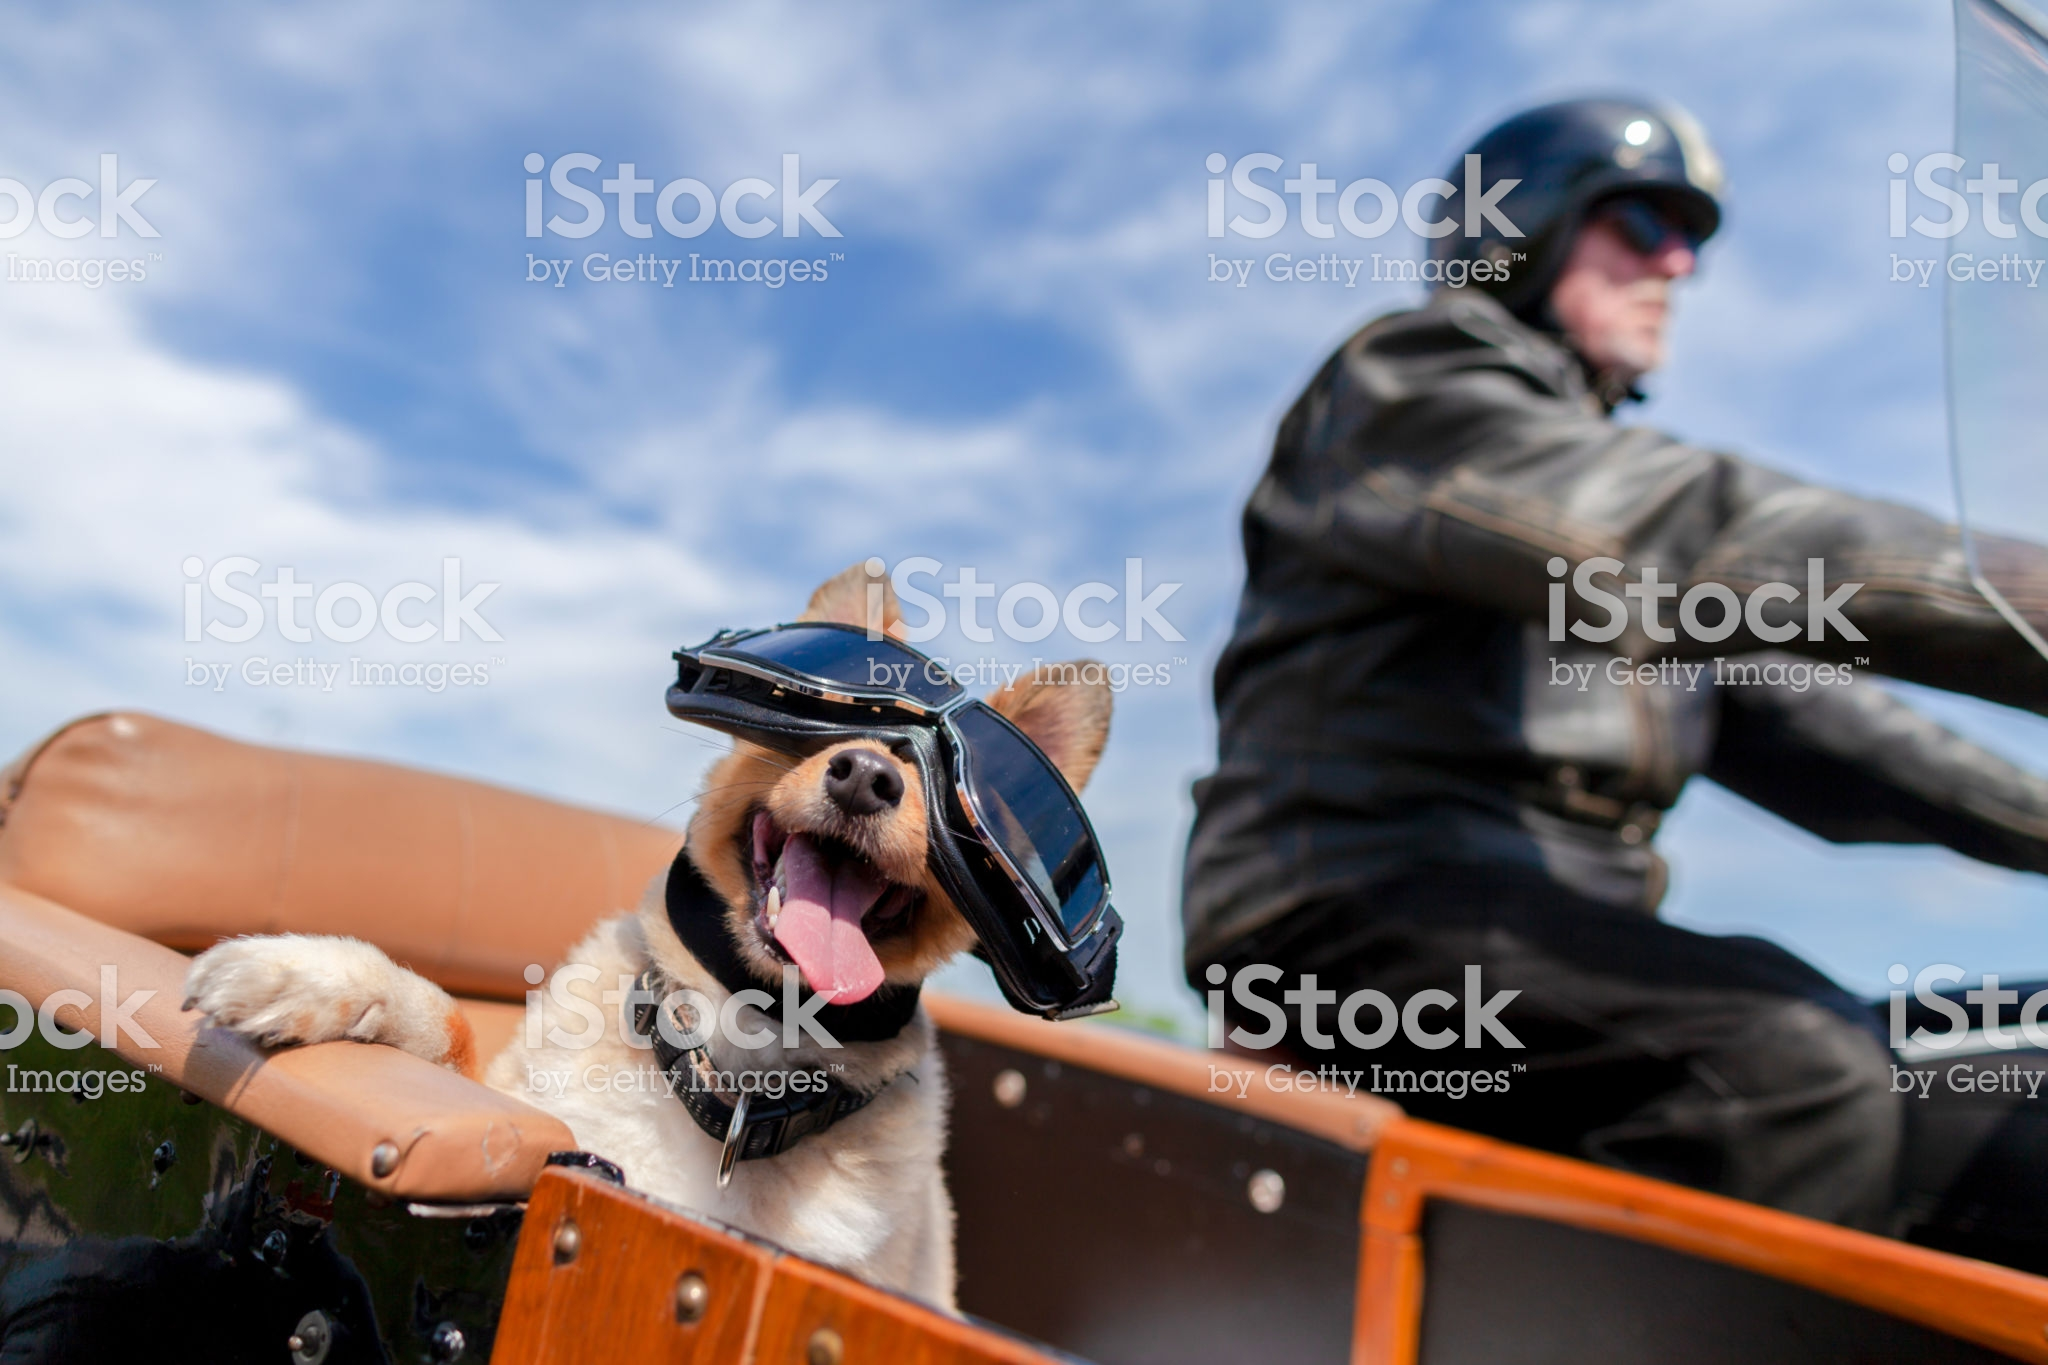helmet: (1398, 69, 1740, 286)
